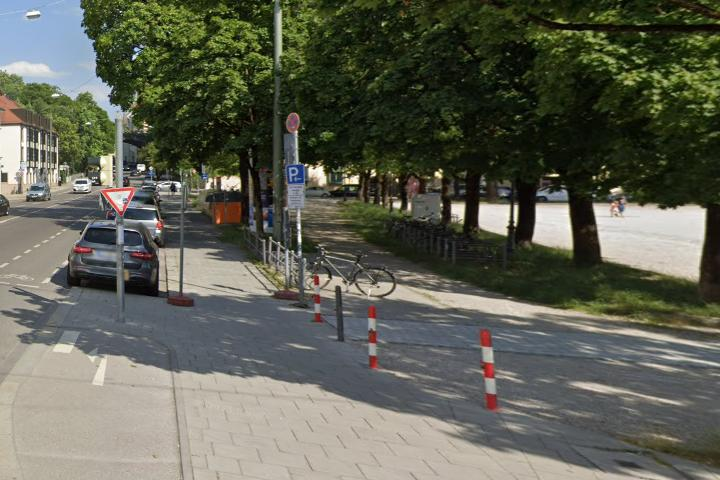traffic_sign: (99, 187, 137, 218), (285, 163, 305, 185), (286, 112, 299, 133)
vehicle: (63, 215, 165, 299), (23, 182, 53, 203), (71, 176, 93, 196)
